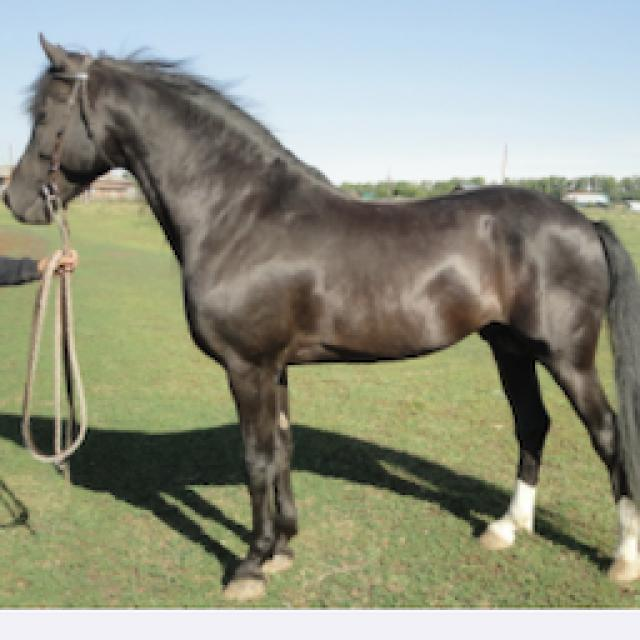Horse: (0, 28, 638, 600)
